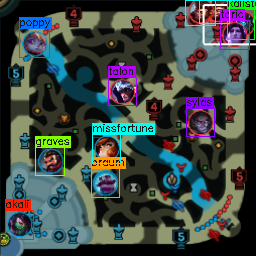akali: (7, 212, 31, 236)
braum: (92, 169, 118, 194)
graves: (38, 147, 63, 172)
kalista: (229, 11, 256, 35)
missfortune: (94, 135, 118, 161)
monkeyking: (187, 1, 214, 23), (206, 1, 229, 21)
poppy: (22, 30, 46, 54)
sylas: (188, 109, 212, 134)
talon: (109, 79, 134, 103)
taric: (222, 22, 246, 47)
